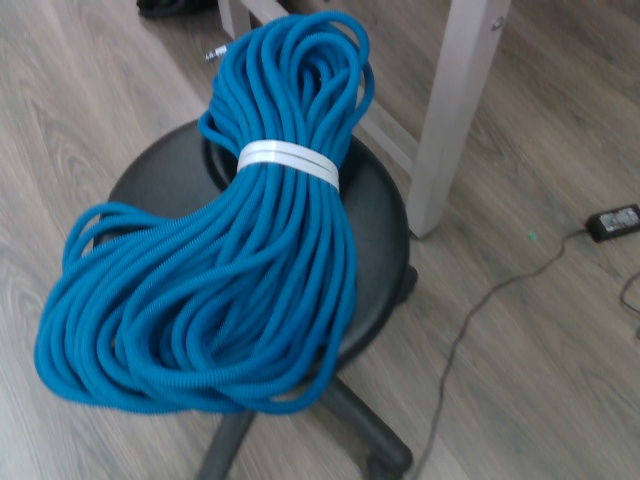rope: (29, 9, 379, 417)
